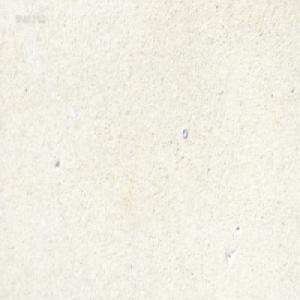Washer: (181, 127, 187, 138)
